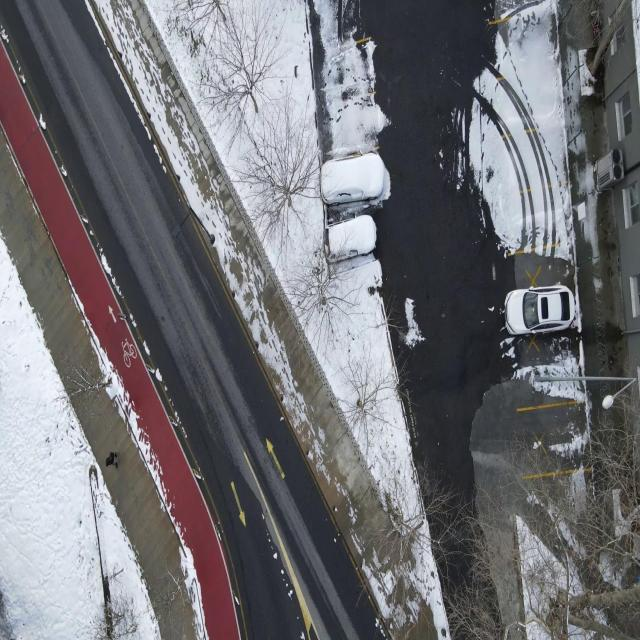p3rson: (104, 451, 120, 469)
